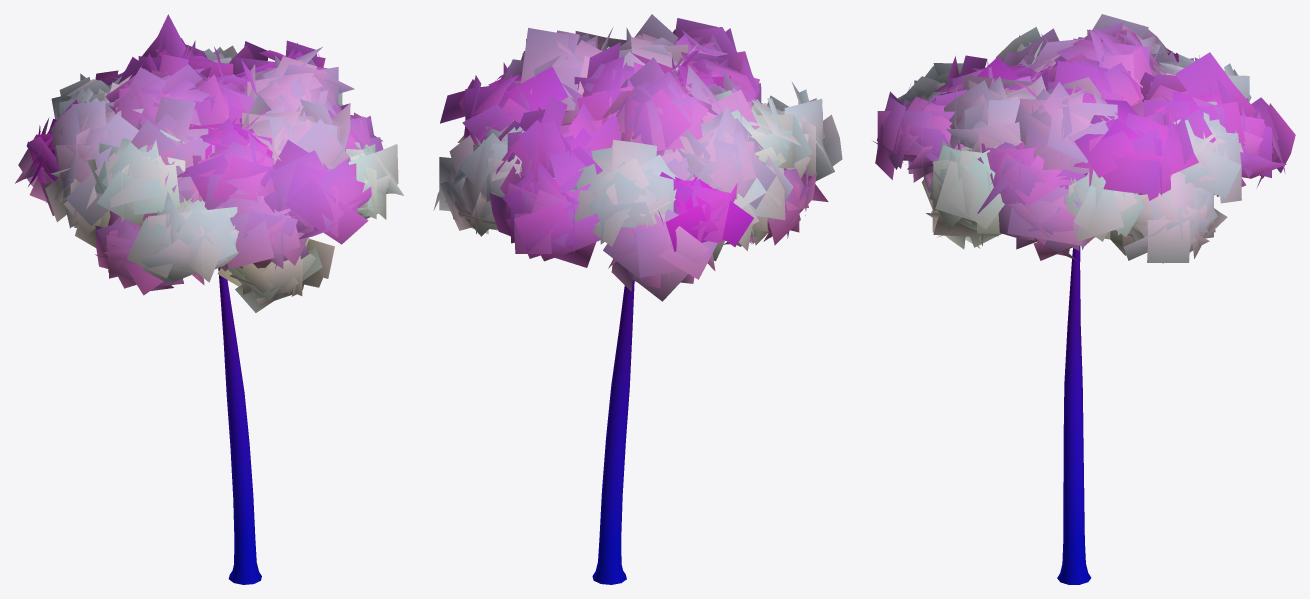
File: pine_b_lod0.glb
3 views of the same model, side by side, from view 1: azimuth 30°, elevation 25°; view 2: azimuth 150°, elevation 25°; view 3: azimuth 270°, elevation 25° (orthographic). The views are drawn at different scales.
Parts seen in each view (by area): view 1: pine_b_lod0; view 2: pine_b_lod0; view 3: pine_b_lod0.
Part boxes in pixels (<box>): pine_b_lod0: <box>15,14,403,584</box>; pine_b_lod0: <box>433,14,842,584</box>; pine_b_lod0: <box>873,14,1295,584</box>.
Size of the model in its own units: 9.85 by 16.17 by 11.86.
